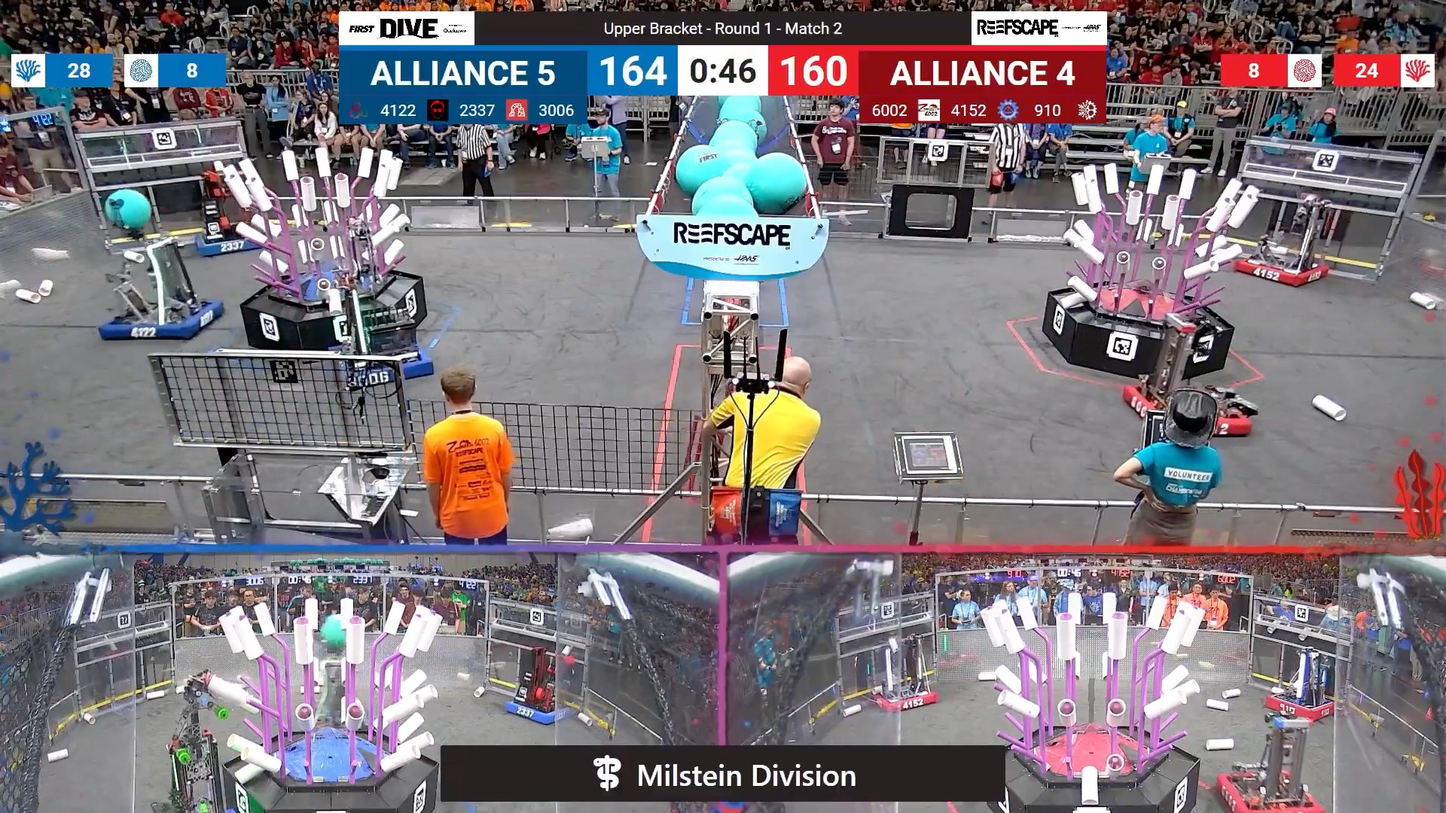bumpers: (1121, 380, 1258, 440), (96, 294, 230, 346), (1209, 769, 1329, 812), (326, 340, 438, 386), (1223, 254, 1336, 292), (188, 225, 281, 259), (1258, 690, 1342, 727), (499, 695, 578, 729), (864, 681, 943, 713)
